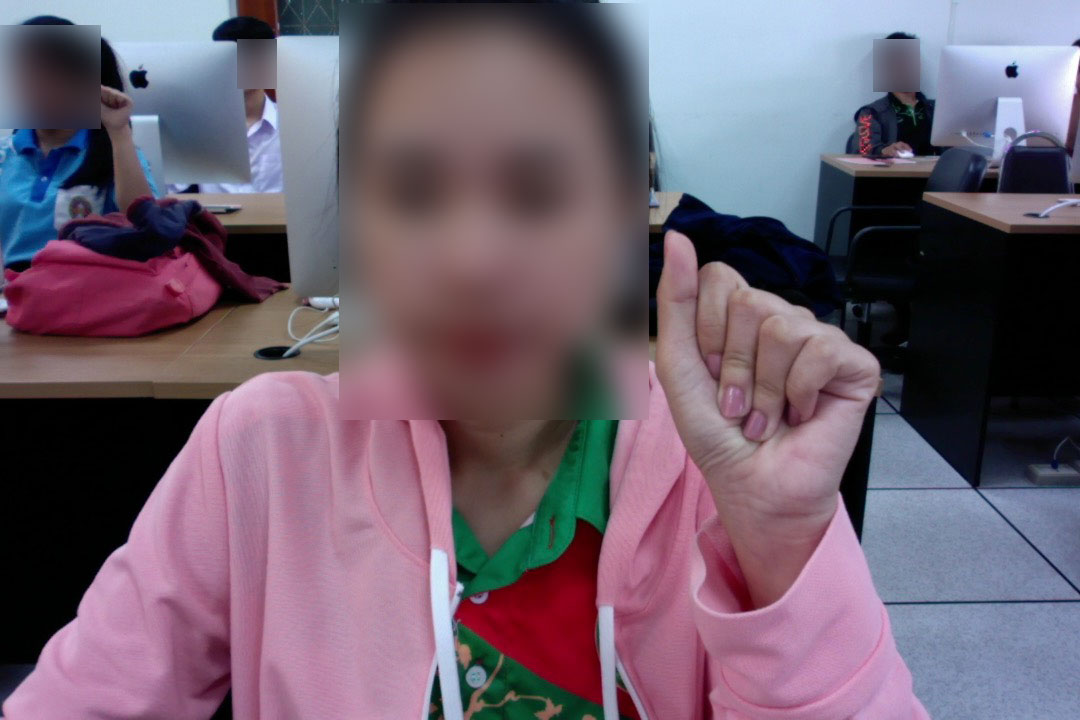or: (650, 215, 886, 547)
